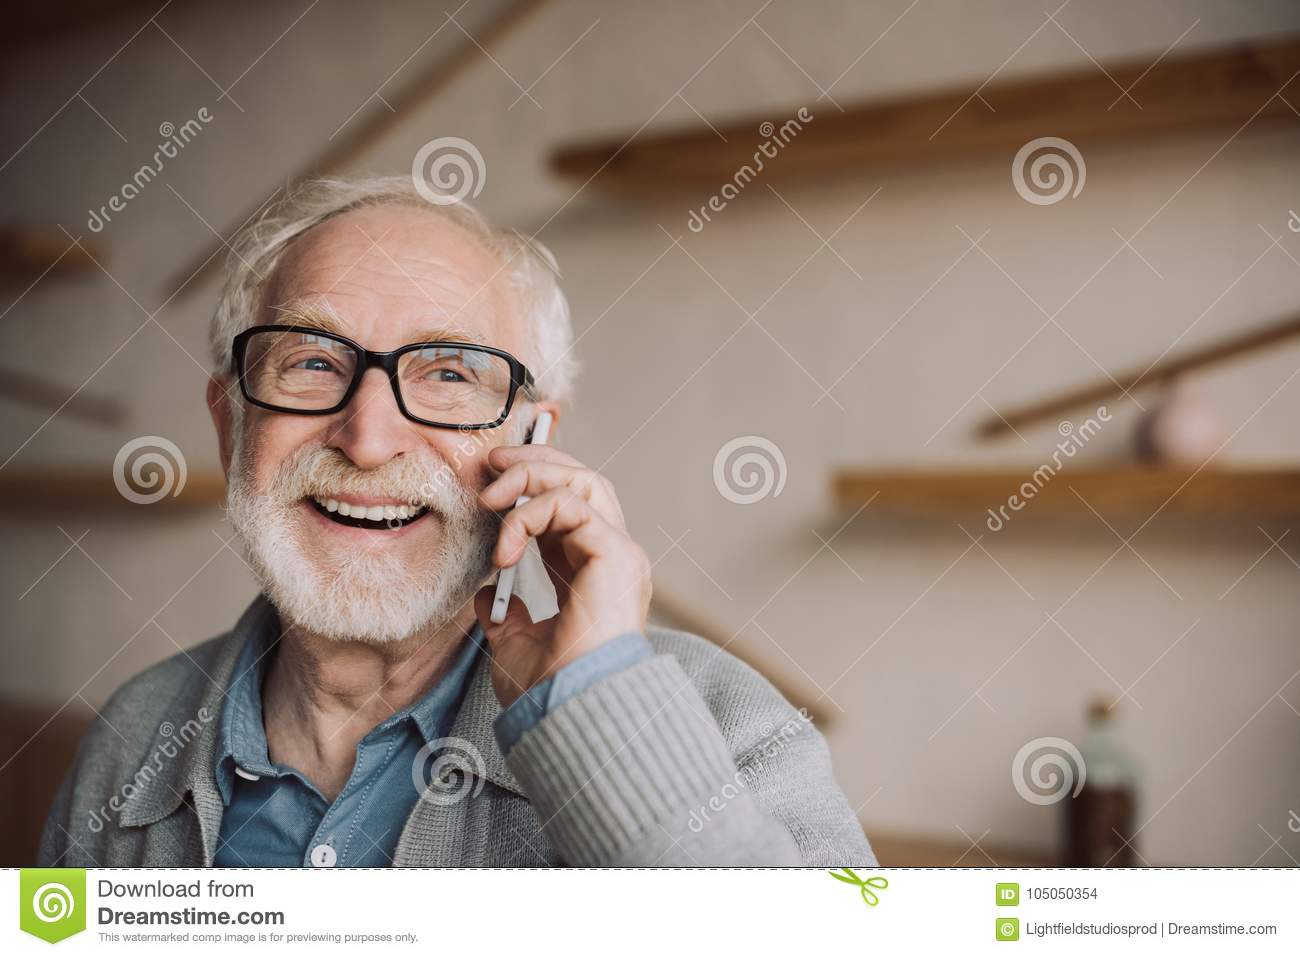phone: (483, 406, 551, 627)
talk: (249, 304, 657, 739)
